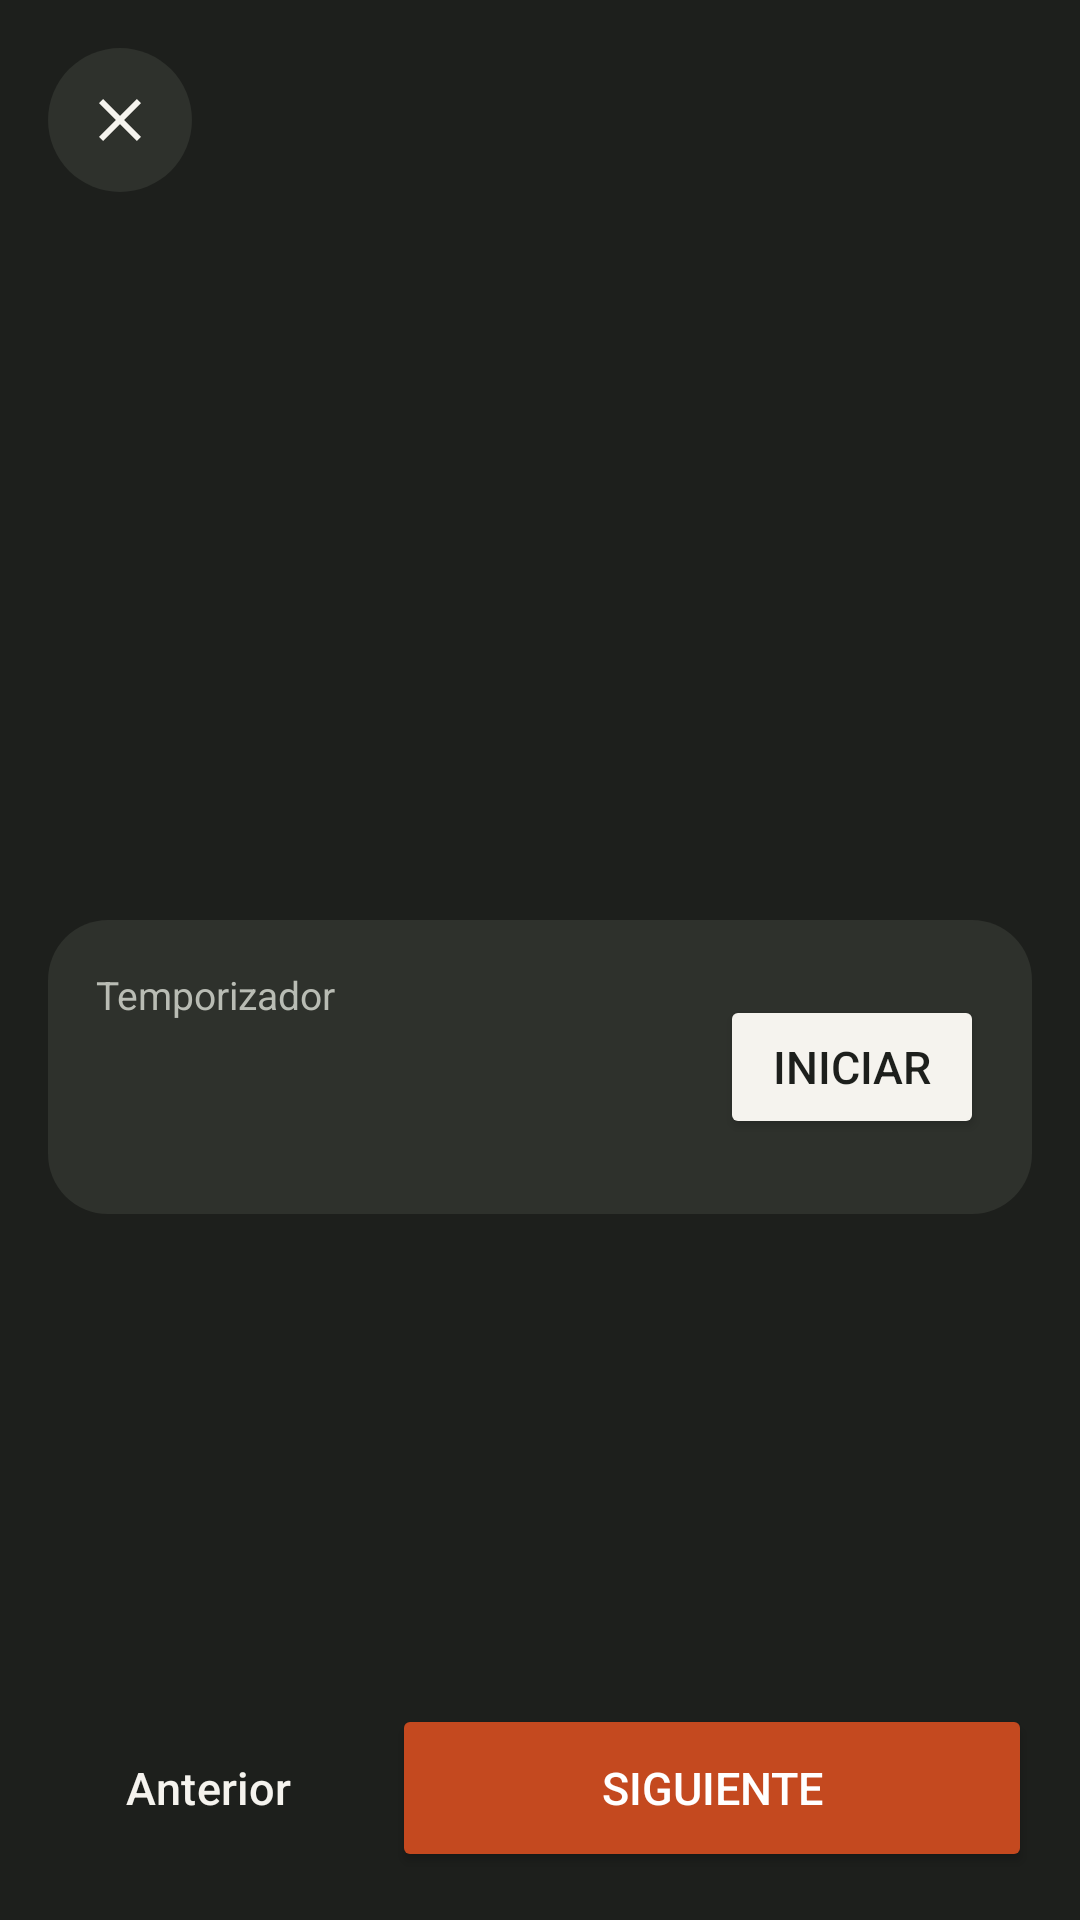

Where to tap for icons on this 1080*1920 app screen, as (x,y):
Salir del modo cocina: (120,120)
